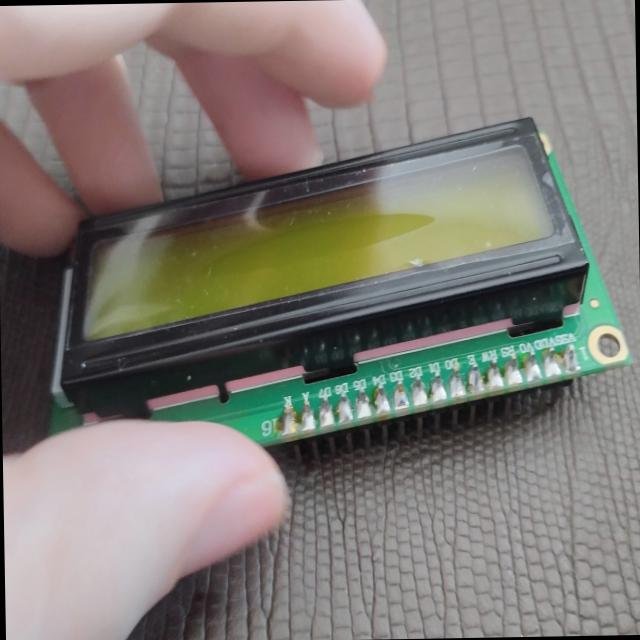lcd: (50, 112, 633, 454)
